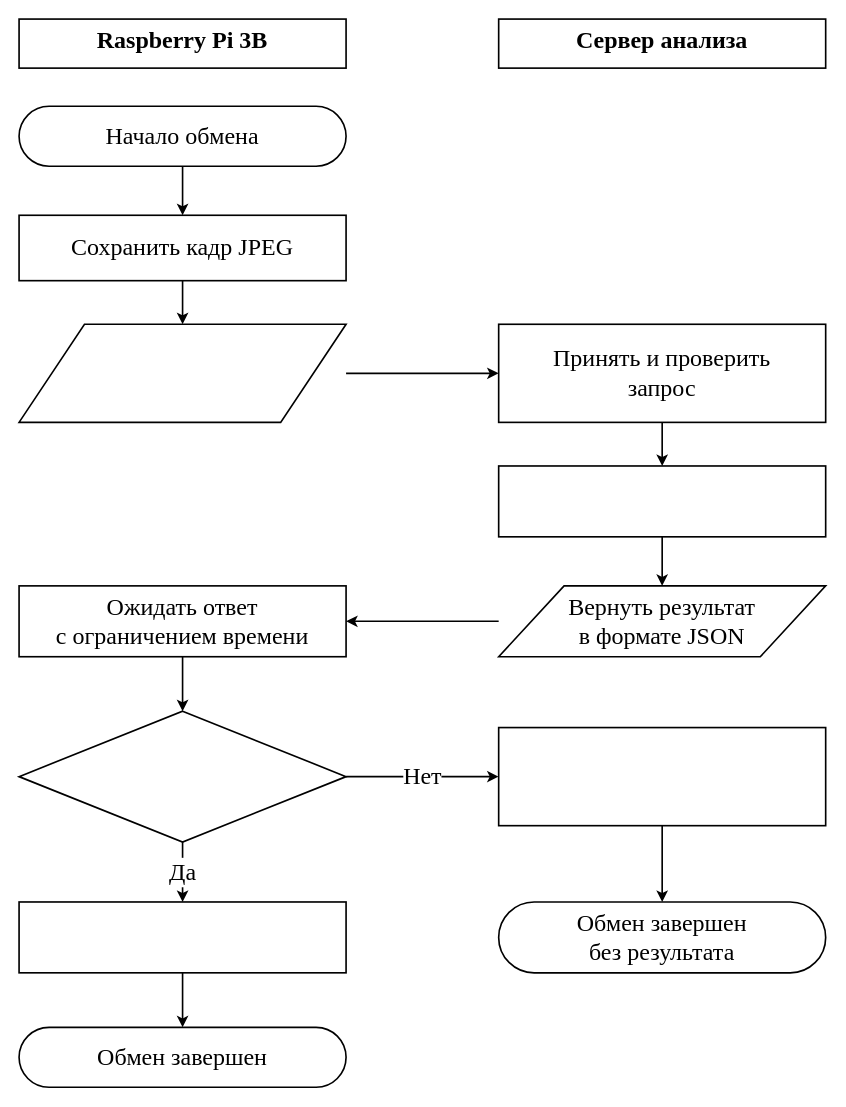
The diagram is 846 pixels wide and 1107 high, and some of its shapes have lost their labels. The shapes that lost their labels are listed below. From the top down, each one's centre as x and y in pixels, then its label:
point 182,373: Передать JPEG и идентификаторы сессии и кадра
point 661,501: Выполнить анализ изображения
point 182,776: Получен корректный ответ?
point 661,776: Записать ошибку в журнал; сохранить JPEG
point 182,937: Сохранить JSON рядом с JPEG
